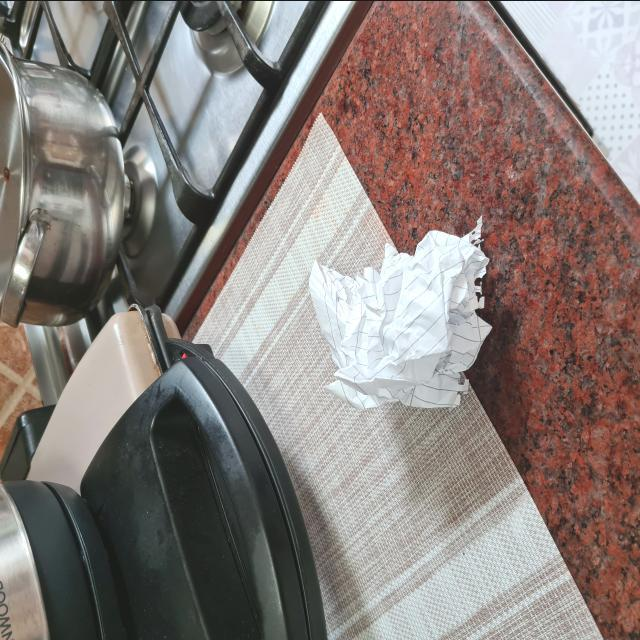Paper: (290, 229, 499, 415)
